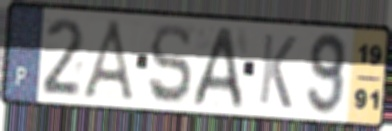2: (38, 16, 87, 98)
9: (303, 30, 348, 119)
A: (79, 18, 140, 105), (190, 25, 246, 109)
K: (256, 30, 299, 112)
S: (146, 21, 194, 107)
